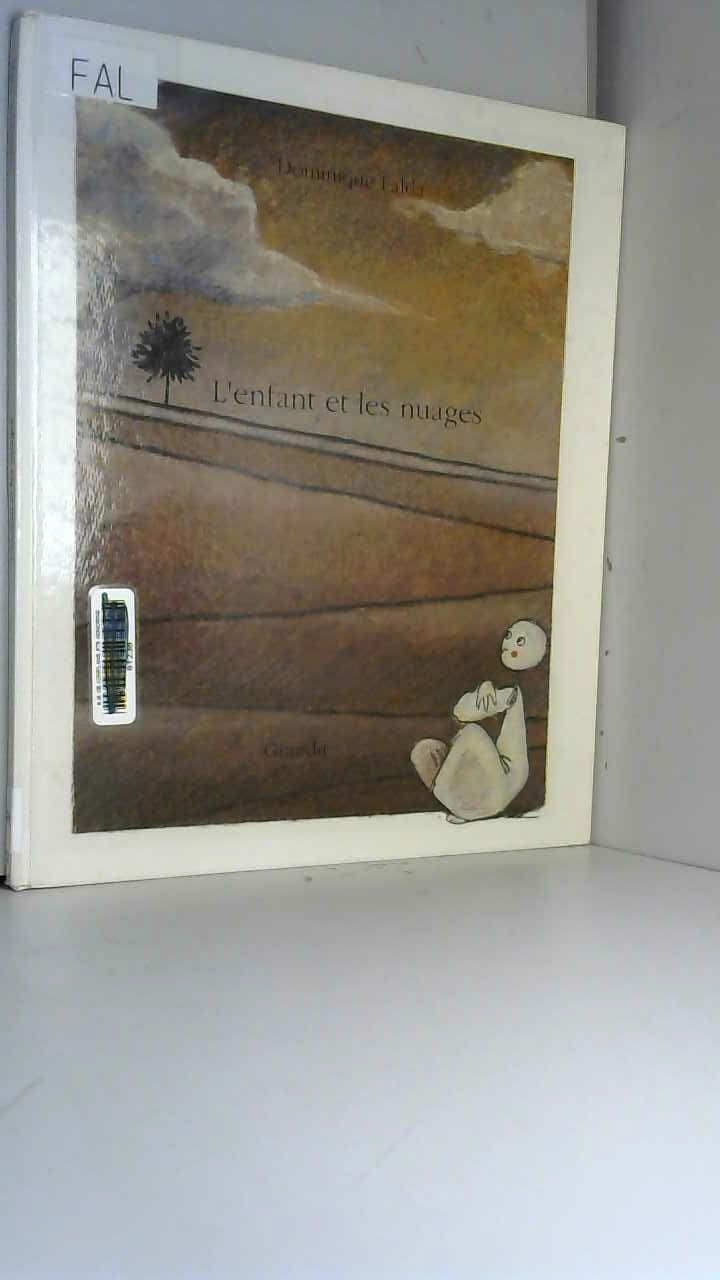book: (0, 0, 647, 925)
